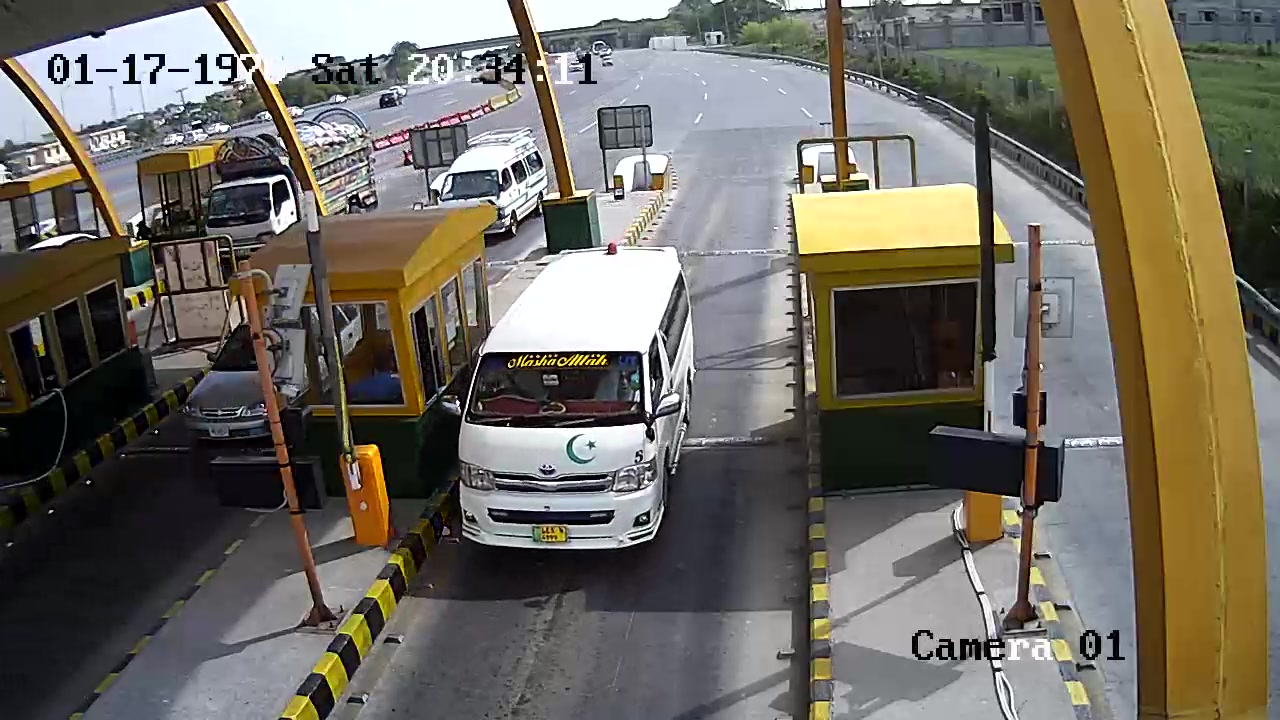F3: (438, 230, 711, 597)
